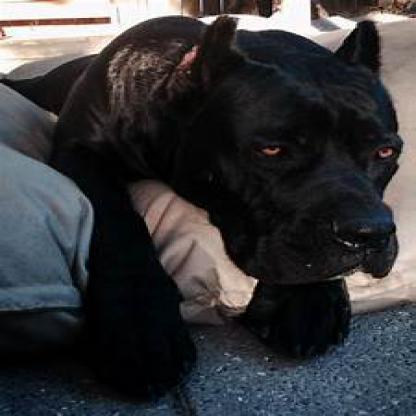dog: (6, 15, 406, 405)
